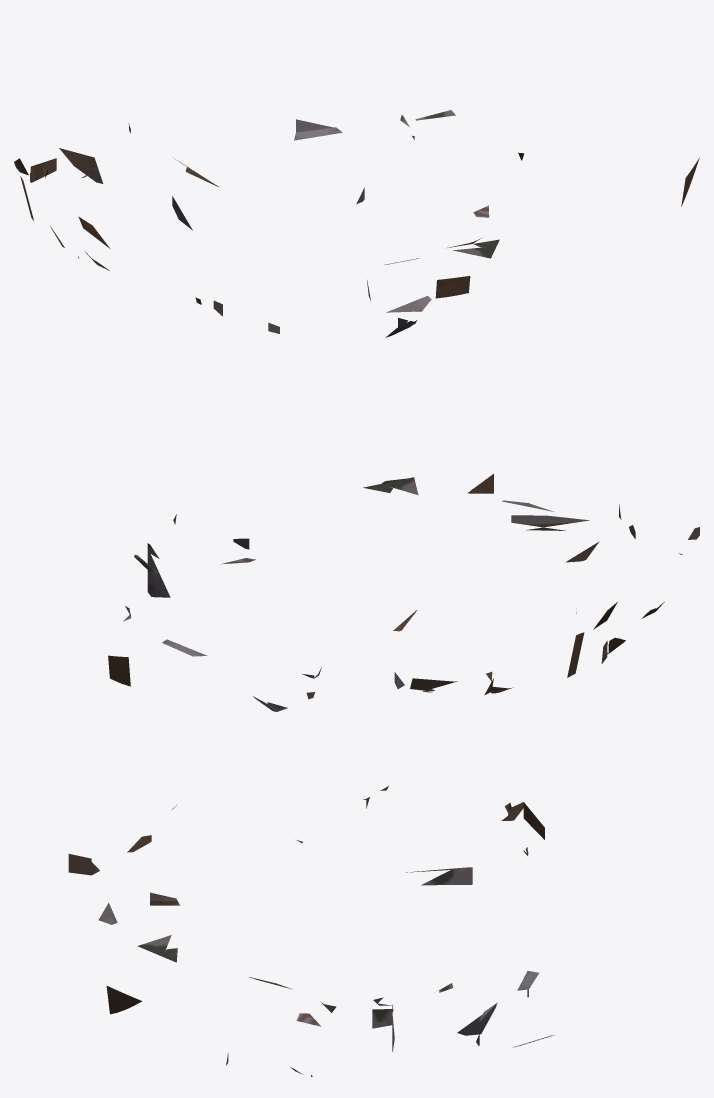
3 renders of one model, top to bottom at view 1: azimuth 30°, elevation 25°; view 2: azimuth 150°, elevation 25°; view 3: azimuth 270°, elevation 25°, orthographic. The views are drawn at different scales.
Visible parts, largest first — view 1: Dirt_-2_-5_0_100, Dirt_-4_2_-1_001; view 2: Columns_-2_-4_-1_010_110, Columns_2_0_-1_000, Dirt_0_4_0_011; view 3: Columns_-3_1_-1_101_111, Dirt_-4_2_-1_001, Dirt_3_-4_0_010, Columns_0_-3_-1_001_111.
Boxes of the visible parts, x1,y1,x2,y2 form: Dirt_-2_-5_0_100: [435, 276, 470, 298]; Dirt_-4_2_-1_001: [14, 158, 56, 182]; Columns_-2_-4_-1_010_110: [511, 515, 589, 530]; Columns_2_0_-1_000: [147, 543, 170, 597]; Dirt_0_4_0_011: [108, 655, 130, 686]; Columns_-3_1_-1_101_111: [421, 867, 472, 885]; Dirt_-4_2_-1_001: [501, 802, 544, 839]; Dirt_3_-4_0_010: [106, 986, 142, 1014]; Columns_0_-3_-1_001_111: [137, 935, 177, 962].
Bounding box in the file's own units: 565 × 176 × 593.
59 materials, 59 textured.
